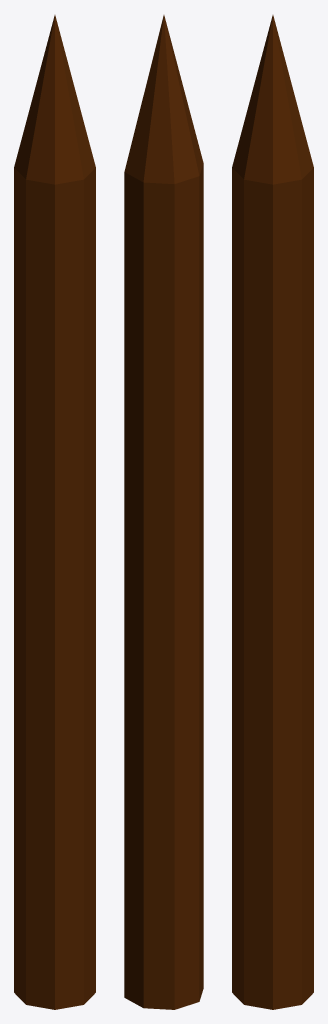
The model's file is Spike_01.fbx.
3 renders of one model, left to right at view 1: azimuth 90°, elevation 25°; view 2: azimuth 150°, elevation 25°; view 3: azimuth 270°, elevation 25°, orthographic.
Visible parts, largest first — view 1: Spike_01; view 2: Spike_01; view 3: Spike_01.
Part boxes in pixels (x1,y1,x2,y2): Spike_01: (14,15,95,1009); Spike_01: (124,15,203,1009); Spike_01: (232,15,313,1009).
Bounding box in the file's own units: 33.94 × 448 × 33.94.
